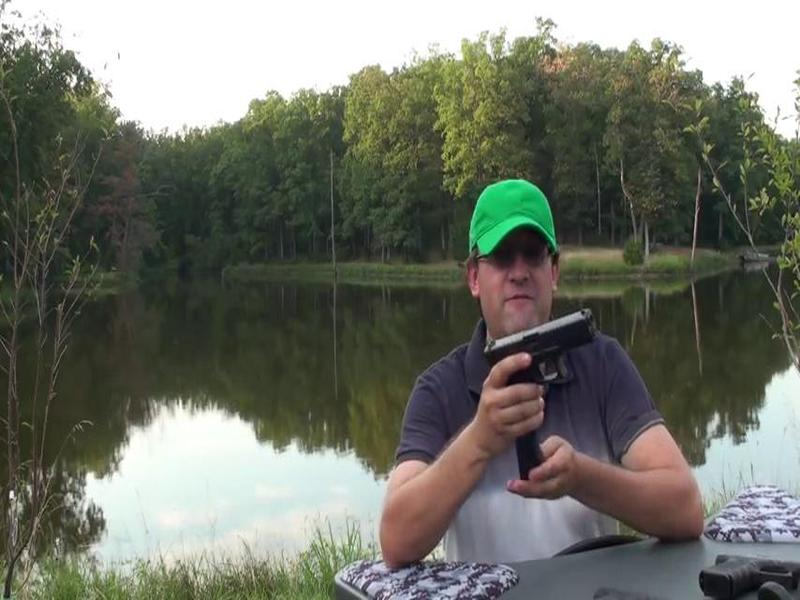Pistola: (462, 294, 617, 442)
